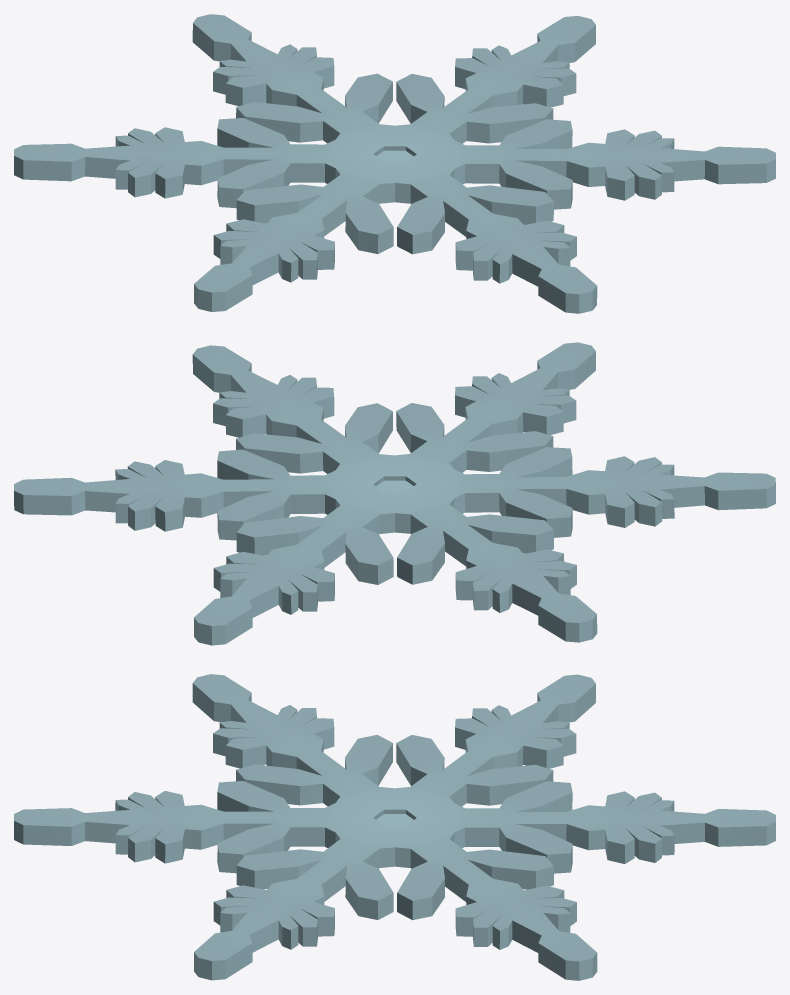
The model's file is geology-crystals-snowflake_v4.glb.
The picture shows the model from 3 angles, top to bottom: view 1: azimuth 30°, elevation 25°; view 2: azimuth 150°, elevation 25°; view 3: azimuth 270°, elevation 25°; orthographic projection.
Visible parts, largest first — view 1: Snowflake_v4; view 2: Snowflake_v4; view 3: Snowflake_v4.
Part boxes in pixels (x1,y1,x2,y2): Snowflake_v4: [14, 14, 775, 313]; Snowflake_v4: [14, 342, 775, 645]; Snowflake_v4: [14, 674, 775, 980].
Size of the model in its own units: 11.82 by 0.4891 by 13.48.
